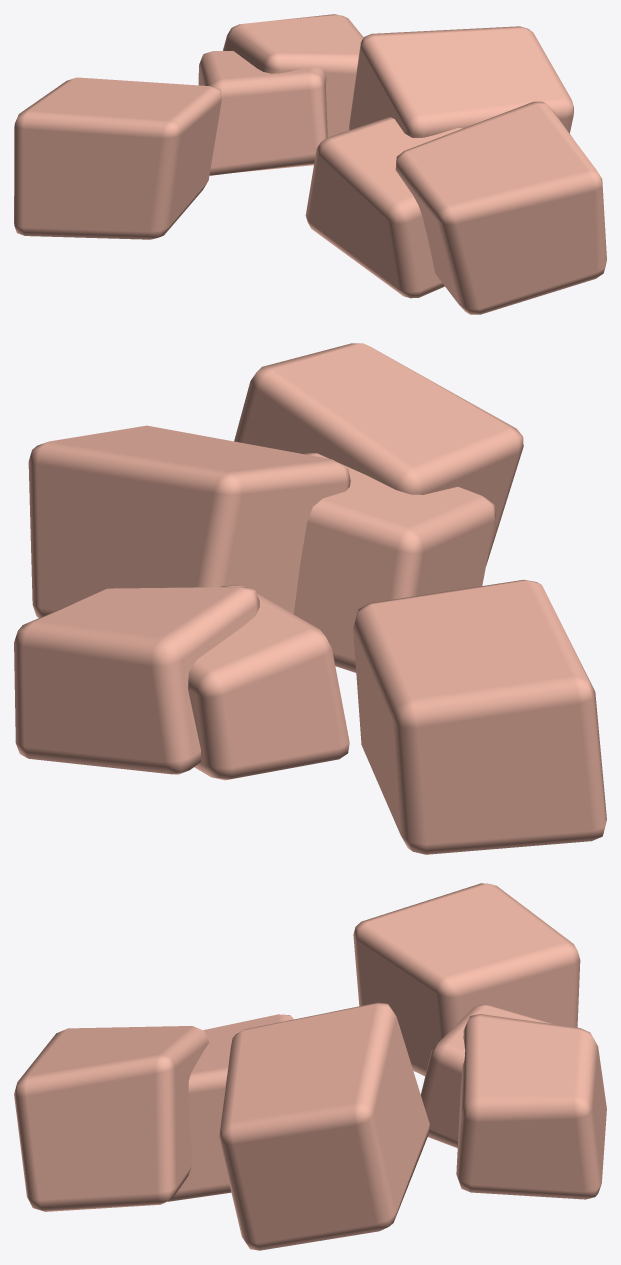
File: Chicken_Chopped.glb
3 views of the same model, one above another, from view 1: azimuth 30°, elevation 25°; view 2: azimuth 150°, elevation 25°; view 3: azimuth 270°, elevation 25° (orthographic). The views are drawn at different scales.
Parts seen in each view (by area): view 1: Chicken_Chopped; view 2: Chicken_Chopped; view 3: Chicken_Chopped.
Part boxes in pixels (x1,y1,x2,y2): Chicken_Chopped: (14, 14, 606, 314); Chicken_Chopped: (14, 343, 606, 854); Chicken_Chopped: (14, 883, 606, 1250).
Bounding box in the file's own units: 0.107 × 0.0378 × 0.1046.
